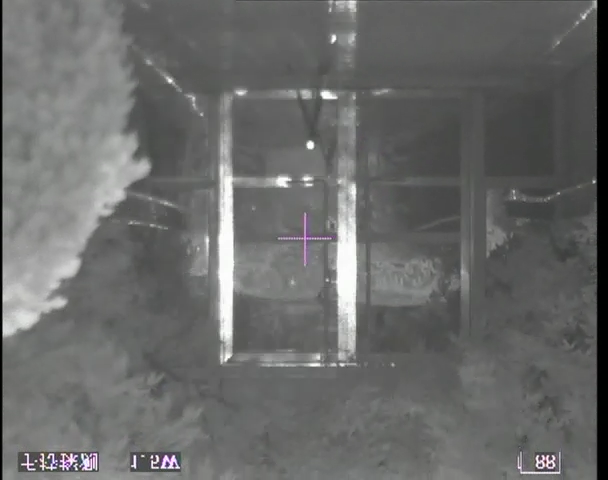my: (305, 139, 316, 150)
